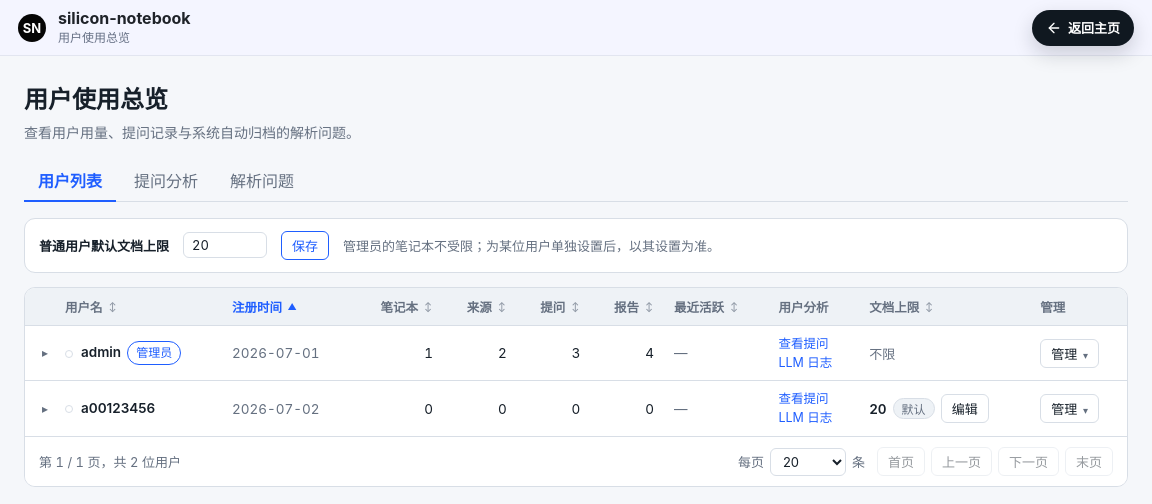
Test: 非法默认上限即时拦截,不发起请求
The width and height of the screenshot is (1152, 504).
expect the text "a00123456" is shown: met, box [81,400,155,416]
Replace the text in the number field labelled "普通用户默认文档上限" with "0" at (225, 245), box [183,232,267,258]
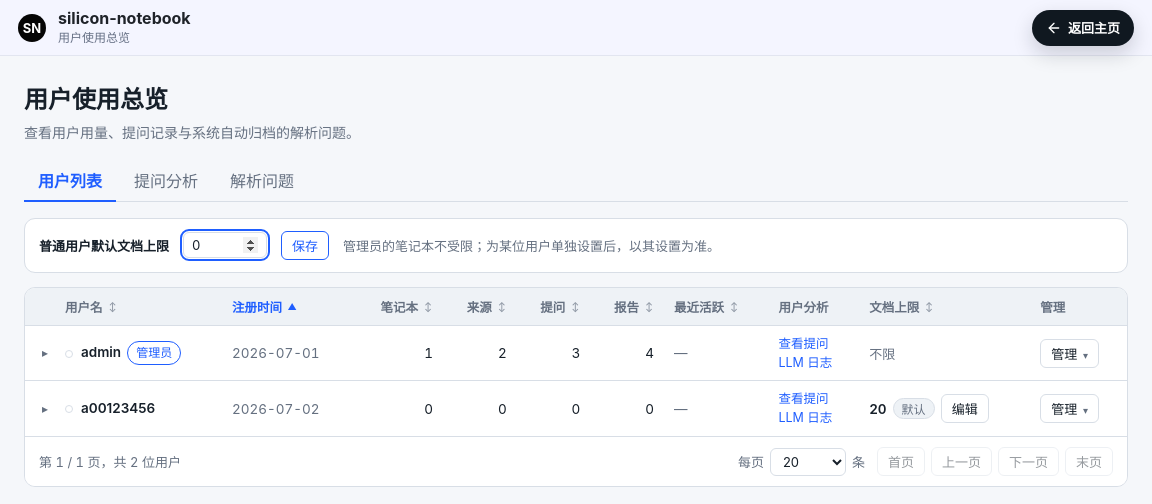
Click the button "保存".
click(305, 245)  # box [281,231,329,260]
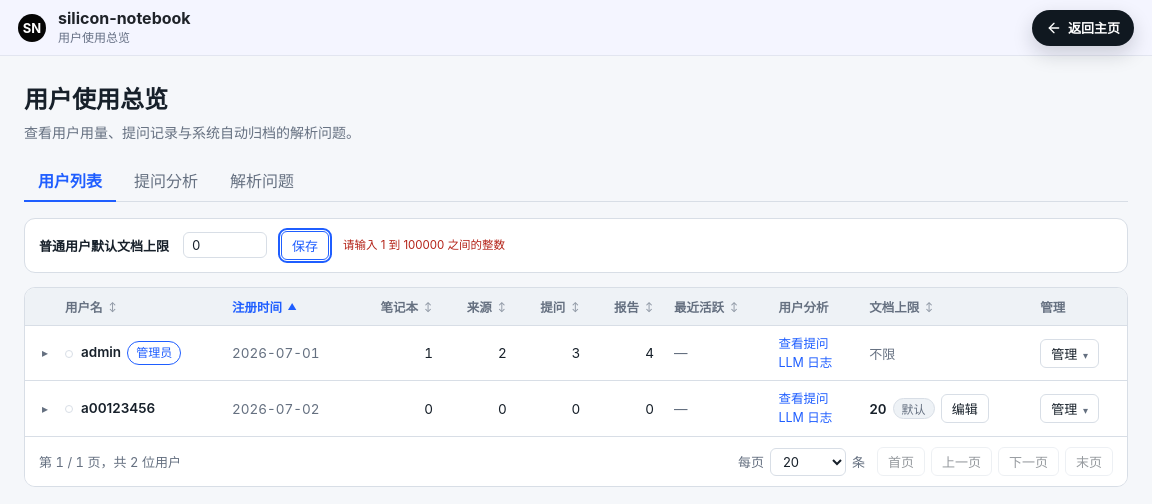
expect the text "请输入 1 到 100000 之间的整数" is shown: met, box [343,237,505,253]
